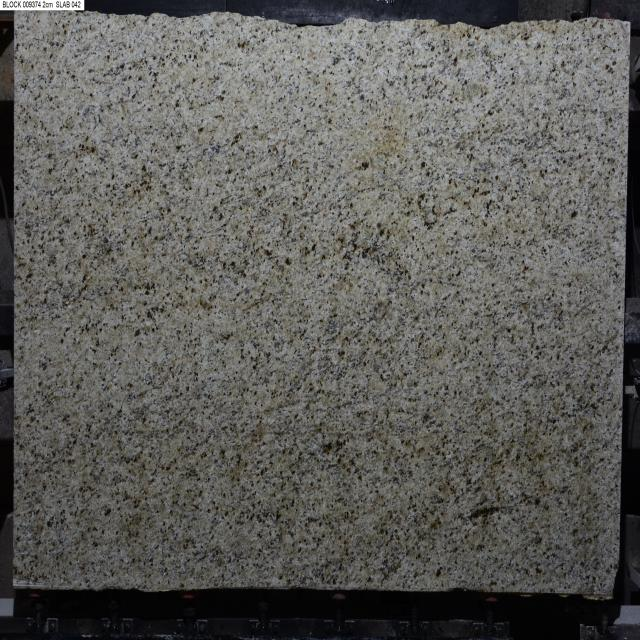chapa: (14, 13, 630, 599)
